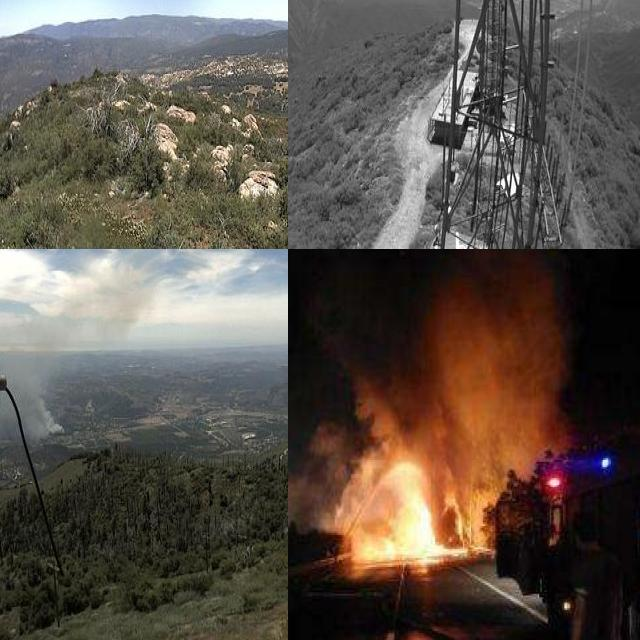fire: (354, 489, 469, 567)
smoke: (288, 249, 564, 515), (0, 260, 148, 445)
